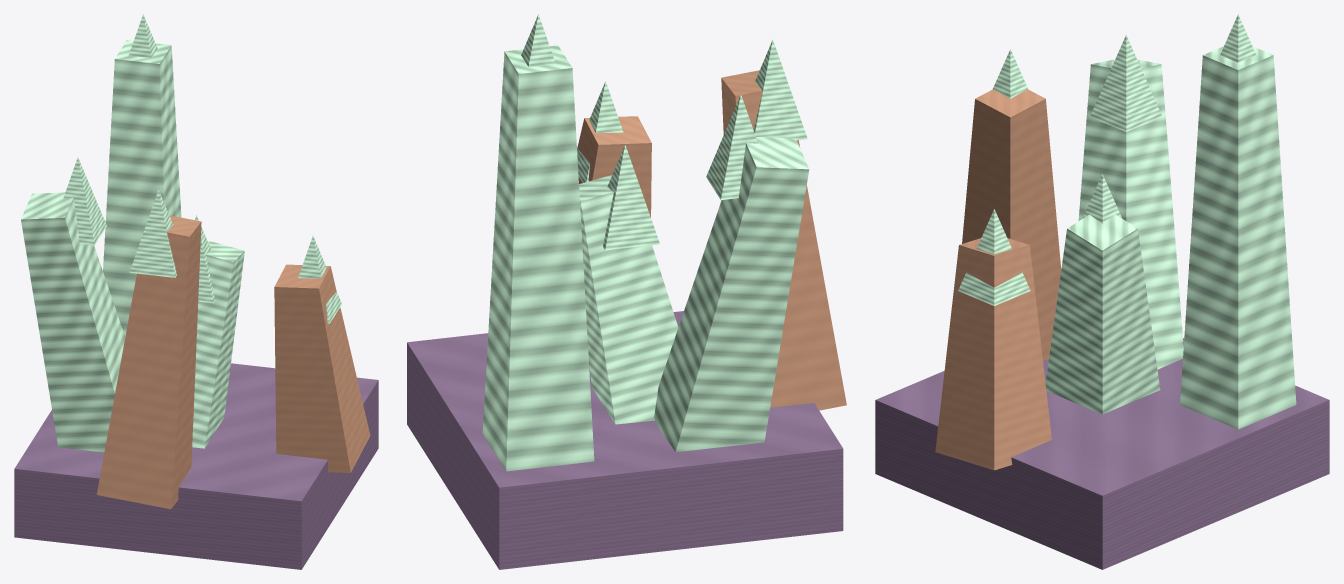
File: atlas100-s086-a04.glb
3 views of the same model, side by side, from view 1: azimuth 30°, elevation 25°; view 2: azimuth 150°, elevation 25°; view 3: azimuth 270°, elevation 25° (orthographic). The views are drawn at different scales.
Parts seen in each view (by area): view 1: atlas100-s086-a04:part-000, atlas100-s086-a04:part-003, atlas100-s086-a04:part-009, atlas100-s086-a04:part-007, atlas100-s086-a04:part-005, atlas100-s086-a04:part-001, atlas100-s086-a04:part-004, atlas100-s086-a04:part-010, atlas100-s086-a04:part-008, atlas100-s086-a04:part-002, atlas100-s086-a04:part-006; view 2: atlas100-s086-a04:part-000, atlas100-s086-a04:part-005, atlas100-s086-a04:part-009, atlas100-s086-a04:part-001, atlas100-s086-a04:part-003, atlas100-s086-a04:part-007, atlas100-s086-a04:part-002, atlas100-s086-a04:part-004, atlas100-s086-a04:part-010, atlas100-s086-a04:part-008, atlas100-s086-a04:part-006; view 3: atlas100-s086-a04:part-000, atlas100-s086-a04:part-005, atlas100-s086-a04:part-007, atlas100-s086-a04:part-001, atlas100-s086-a04:part-003, atlas100-s086-a04:part-009, atlas100-s086-a04:part-010, atlas100-s086-a04:part-008, atlas100-s086-a04:part-002, atlas100-s086-a04:part-006, atlas100-s086-a04:part-004.
Part boxes in pixels (x1,y1,x2,y2): atlas100-s086-a04:part-000: (14, 363, 378, 569); atlas100-s086-a04:part-003: (96, 215, 201, 509); atlas100-s086-a04:part-009: (21, 192, 125, 452); atlas100-s086-a04:part-007: (274, 264, 370, 472); atlas100-s086-a04:part-005: (103, 40, 181, 336); atlas100-s086-a04:part-001: (192, 240, 244, 448); atlas100-s086-a04:part-004: (129, 190, 176, 277); atlas100-s086-a04:part-010: (63, 157, 106, 245); atlas100-s086-a04:part-008: (298, 236, 341, 323); atlas100-s086-a04:part-002: (195, 215, 214, 303); atlas100-s086-a04:part-006: (128, 14, 157, 58); atlas100-s086-a04:part-000: (407, 311, 843, 569); atlas100-s086-a04:part-005: (482, 45, 594, 471); atlas100-s086-a04:part-009: (654, 137, 809, 452); atlas100-s086-a04:part-001: (579, 175, 678, 424); atlas100-s086-a04:part-003: (721, 70, 846, 410); atlas100-s086-a04:part-007: (577, 116, 651, 217); atlas100-s086-a04:part-002: (603, 145, 659, 250); atlas100-s086-a04:part-004: (753, 39, 807, 140); atlas100-s086-a04:part-010: (706, 95, 758, 199); atlas100-s086-a04:part-008: (577, 81, 623, 182); atlas100-s086-a04:part-006: (521, 14, 555, 66); atlas100-s086-a04:part-000: (875, 338, 1329, 569); atlas100-s086-a04:part-005: (1180, 46, 1296, 429); atlas100-s086-a04:part-007: (935, 238, 1051, 470); atlas100-s086-a04:part-001: (1045, 214, 1160, 414); atlas100-s086-a04:part-003: (962, 89, 1061, 360); atlas100-s086-a04:part-009: (1078, 59, 1183, 369); atlas100-s086-a04:part-010: (1090, 35, 1162, 131); atlas100-s086-a04:part-008: (958, 209, 1030, 306); atlas100-s086-a04:part-002: (1082, 174, 1122, 223); atlas100-s086-a04:part-006: (1220, 14, 1255, 62); atlas100-s086-a04:part-004: (993, 49, 1027, 98).
Size of the model in its own units: 1.07 by 1.21 by 1.07.
Materials: 3 (3 with a texture image).
